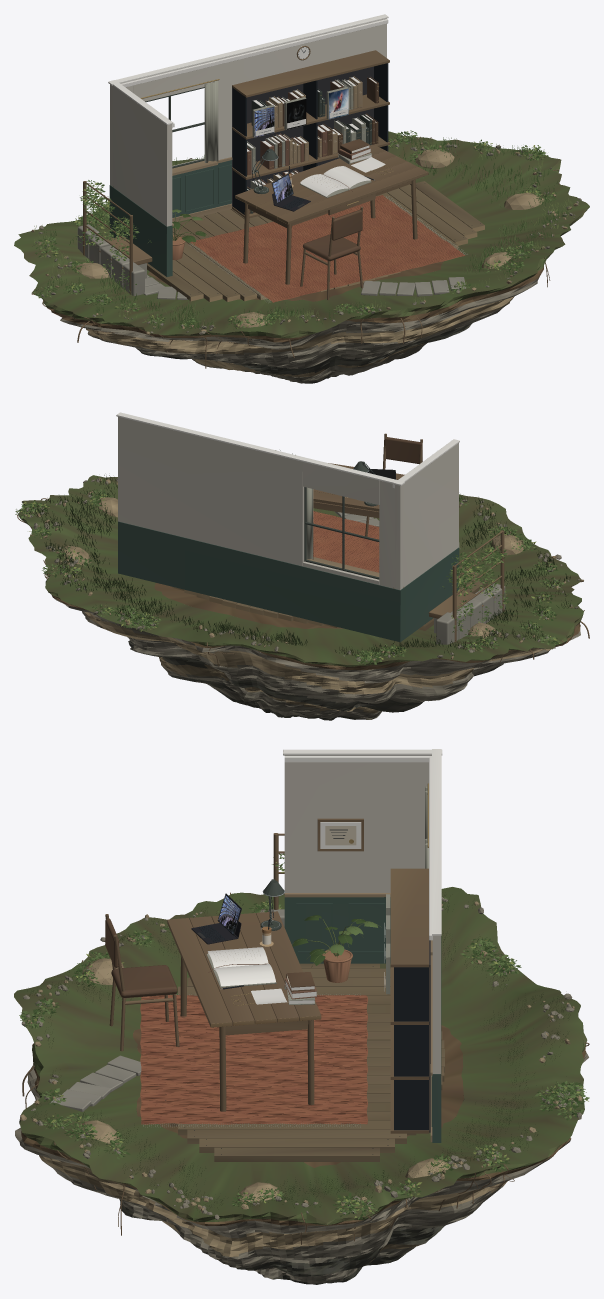
Rendered from orbit-writing-a3a89e2c.glb.
The picture shows the model from 3 angles, top to bottom: view 1: azimuth 30°, elevation 25°; view 2: azimuth 150°, elevation 25°; view 3: azimuth 270°, elevation 25°; orthographic projection. The views are drawn at different scales.
Visible parts, largest first — view 1: Writing island · browser materials; view 2: Writing island · browser materials; view 3: Writing island · browser materials.
Part boxes in pixels (left/top/right/bottom): Writing island · browser materials: left=14, top=14, right=589, bottom=383; Writing island · browser materials: left=15, top=412, right=589, bottom=720; Writing island · browser materials: left=14, top=749, right=589, bottom=1284.
Bounding box in the file's own units: 11.74 × 6.45 × 8.17.
Materials: 41 (4 with a texture image).
